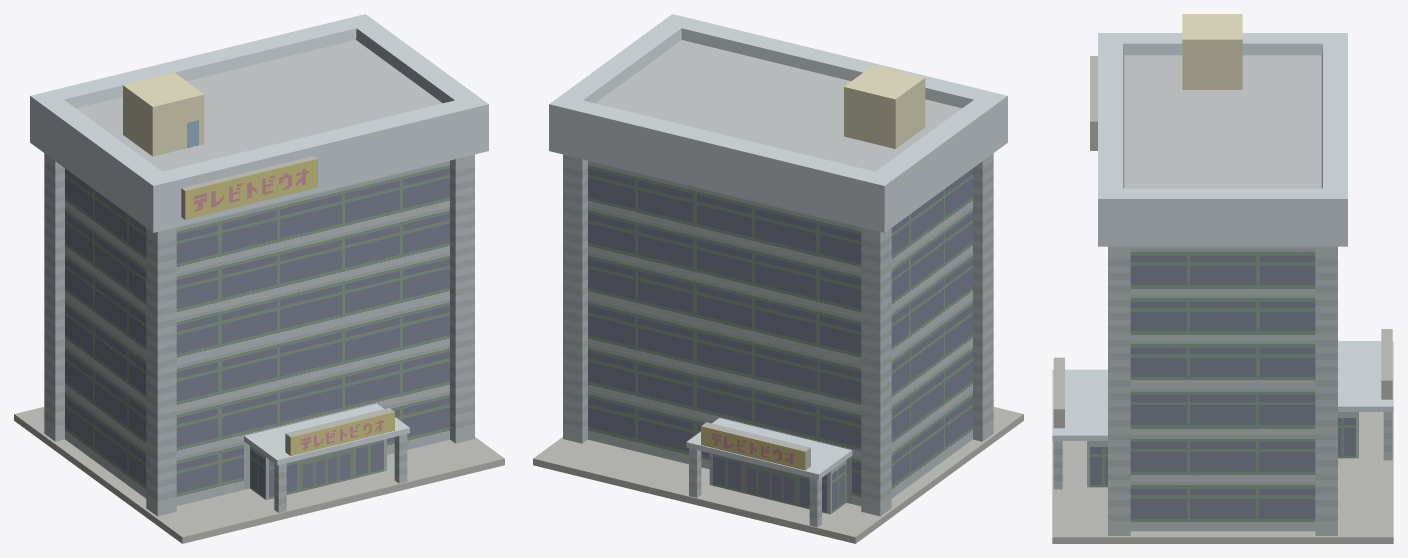
File: 0469_TV_Station.glb
3 views of the same model, side by side, from view 1: azimuth 30°, elevation 25°; view 2: azimuth 150°, elevation 25°; view 3: azimuth 270°, elevation 25° (orthographic).
Parts seen in each view (by area): view 1: part_0; view 2: part_0; view 3: part_0.
Part boxes in pixels (left/top/right/bottom): part_0: left=14, top=14, right=504, bottom=543; part_0: left=533, top=14, right=1023, bottom=543; part_0: left=1052, top=14, right=1393, bottom=543.
Bounding box in the file's own units: 18.65 × 20.28 × 16.21.
Materials: 1 (1 with a texture image).
